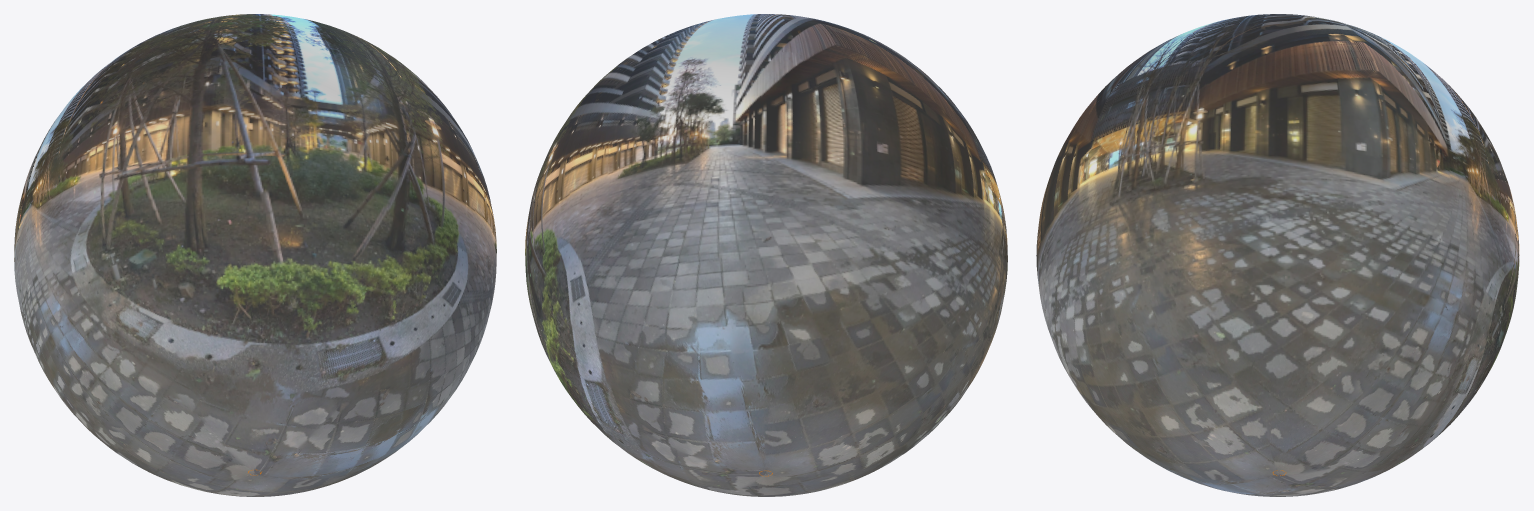
Rendered from AR-Building Portal.glb.
3 renders of one model, left to right at view 1: azimuth 30°, elevation 25°; view 2: azimuth 150°, elevation 25°; view 3: azimuth 270°, elevation 25°, orthographic.
Parts seen in each view (by area): view 1: Mesh_0; view 2: Mesh_0; view 3: Mesh_0.
Boxes of the visible parts, <box> form: Mesh_0: <box>14,14,496,496</box>; Mesh_0: <box>525,14,1007,496</box>; Mesh_0: <box>1036,14,1519,496</box>.
Bounding box in the file's own units: 3.4 × 3.4 × 3.4.
Materials: 2 (1 with a texture image).
